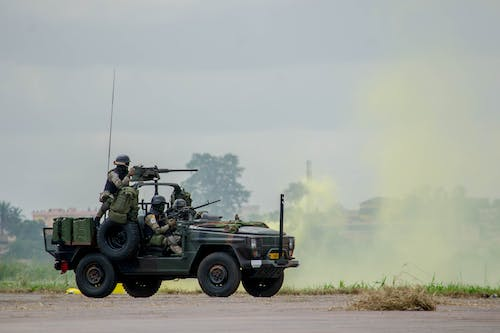gun: (158, 197, 222, 225), (128, 166, 200, 181)
